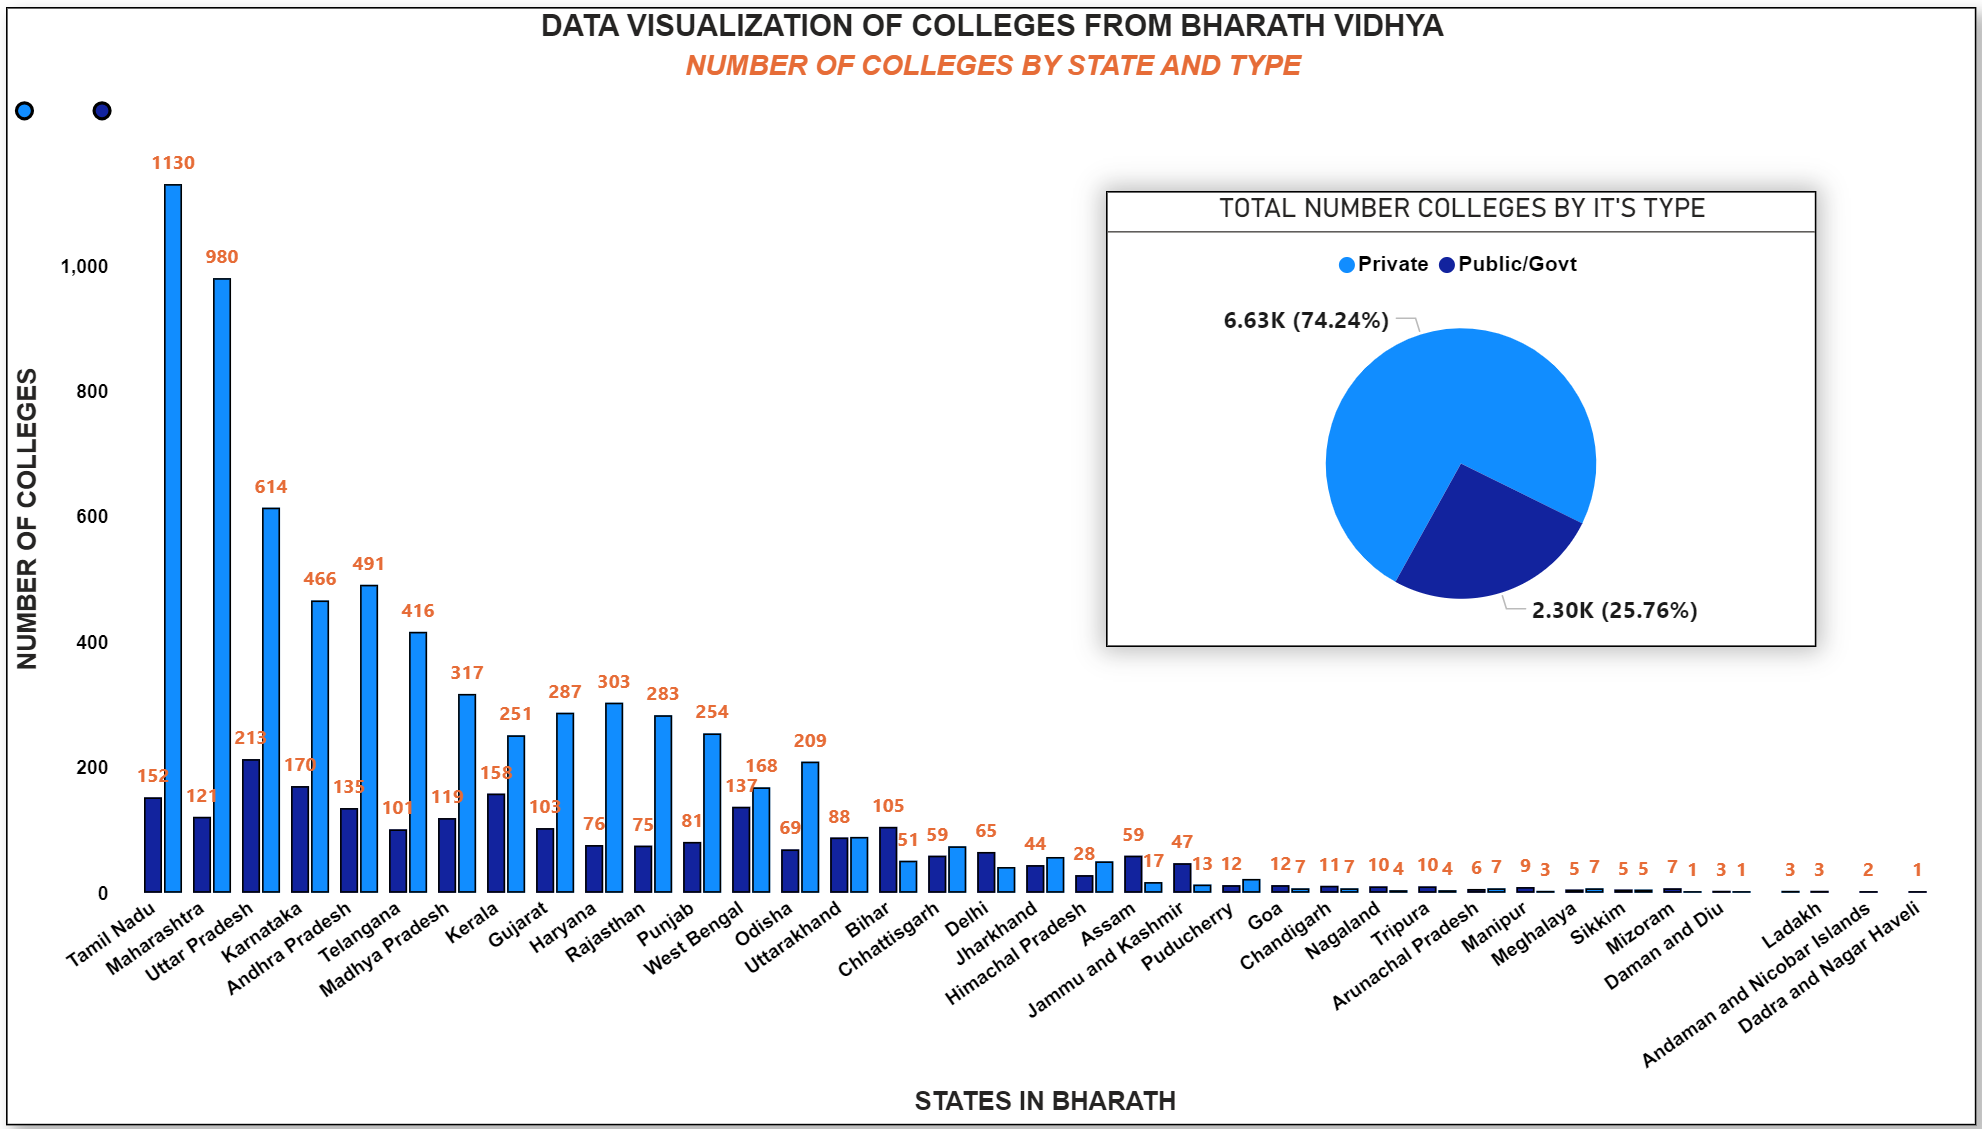

What the dashboard file says about the page in this screenshot:
{"tool":"powerbi","page":{"name":"Page 1","canvas":[1280,720],"ordinal":0},"visuals":[{"type":"clusteredColumnChart","title":"DATA VISUALIZATION OF COLLEGES FROM BHARATH VIDHYA","fields":{"Category":["colleges_data.state"],"Y":["CountNonNull(colleges_data.colleges)"],"Series":["colleges_data.type"]},"box":[11.2,10,1231.2,698.8],"z":2},{"type":"pieChart","title":"TOTAL NUMBER COLLEGES BY IT''S TYPE","fields":{"Category":["colleges_data.type"],"Y":["CountNonNull(colleges_data.colleges)"]},"box":[698.8,125,443.8,285],"z":3}]}

Visuals, with their boxes in screenshot pixels (x1, y1, x2, y2), scaled from the page's 1280x720 canvas onto the 1982x1129 screenshot:
"DATA VISUALIZATION OF COLLEGES FROM BHARATH VIDHYA" clusteredColumnChart: detection(17, 16, 1924, 1111)
"TOTAL NUMBER COLLEGES BY IT''S TYPE" pieChart: detection(1082, 196, 1769, 643)
